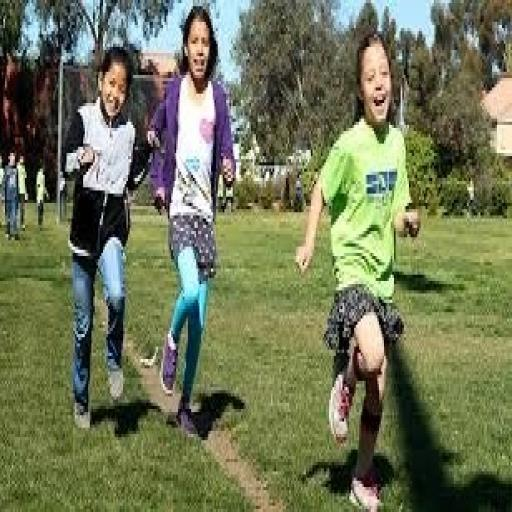running: (292, 28, 424, 509), (143, 3, 238, 440), (60, 41, 150, 434)
